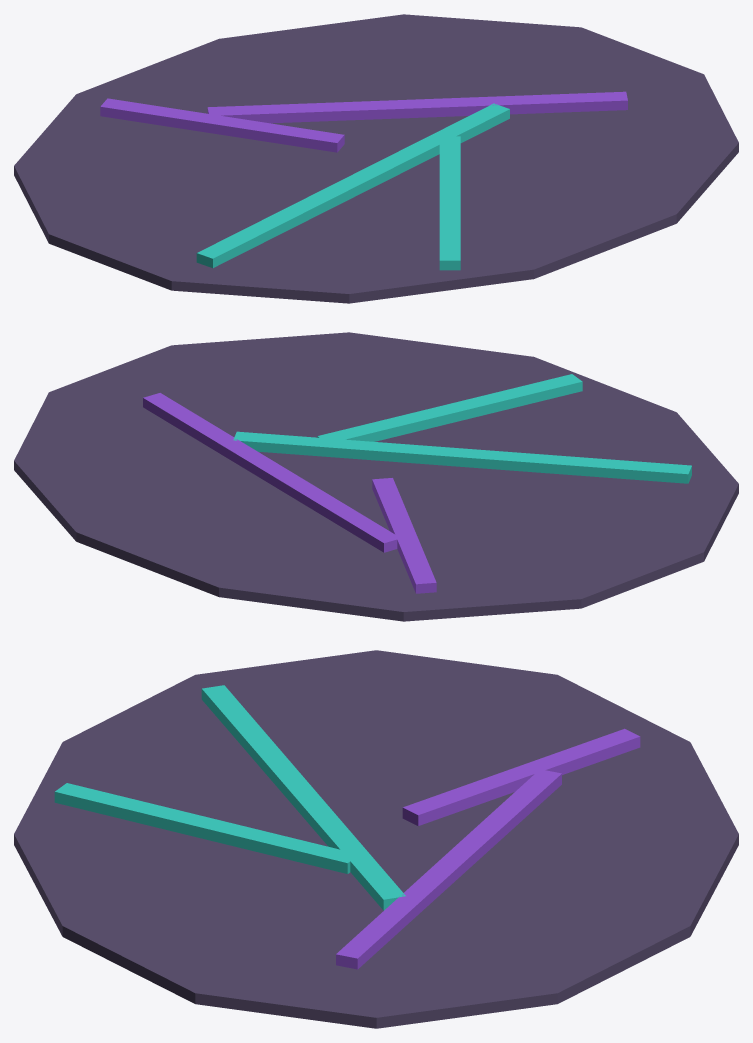
Rendered from env_r12_mineral_vein_patch.glb.
The picture shows the model from 3 angles, top to bottom: view 1: azimuth 30°, elevation 25°; view 2: azimuth 150°, elevation 25°; view 3: azimuth 270°, elevation 25°; orthographic projection. The views are drawn at different scales.
Visible parts, largest first — view 1: env_r12_mineral_vein_patch; view 2: env_r12_mineral_vein_patch; view 3: env_r12_mineral_vein_patch.
Boxes of the visible parts, <box> form: env_r12_mineral_vein_patch: <box>14,14,738,303</box>; env_r12_mineral_vein_patch: <box>14,332,738,621</box>; env_r12_mineral_vein_patch: <box>14,650,738,1028</box>.
Bounding box in the file's own units: 3.6 × 0.1 × 3.
Materials: 1 (1 with a texture image).
